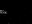person: (1, 11, 6, 16)
